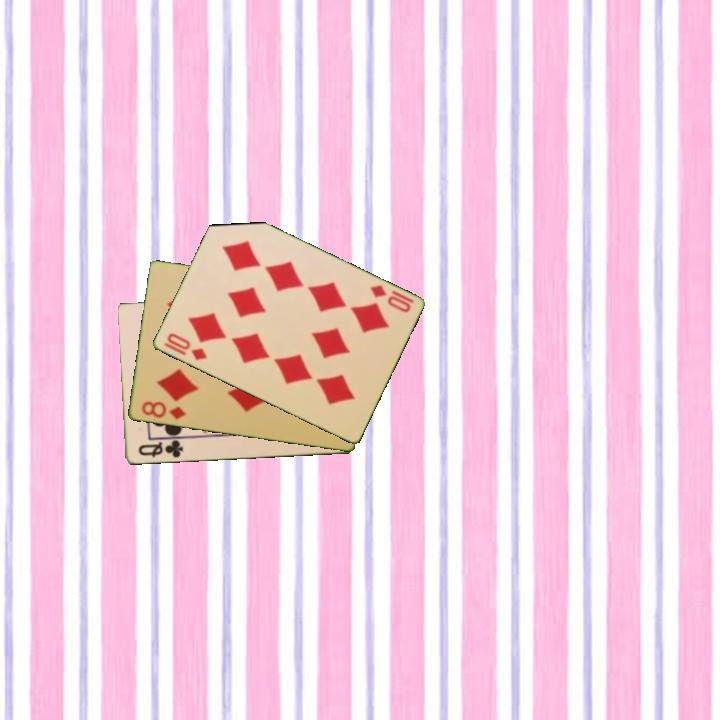10d: (366, 281, 417, 316), (163, 330, 210, 364)
8d: (138, 398, 189, 423)
Qc: (135, 437, 186, 461)
